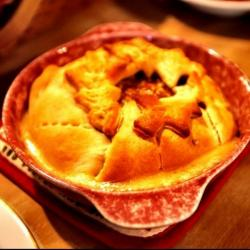apple_pie: (9, 33, 237, 203)
